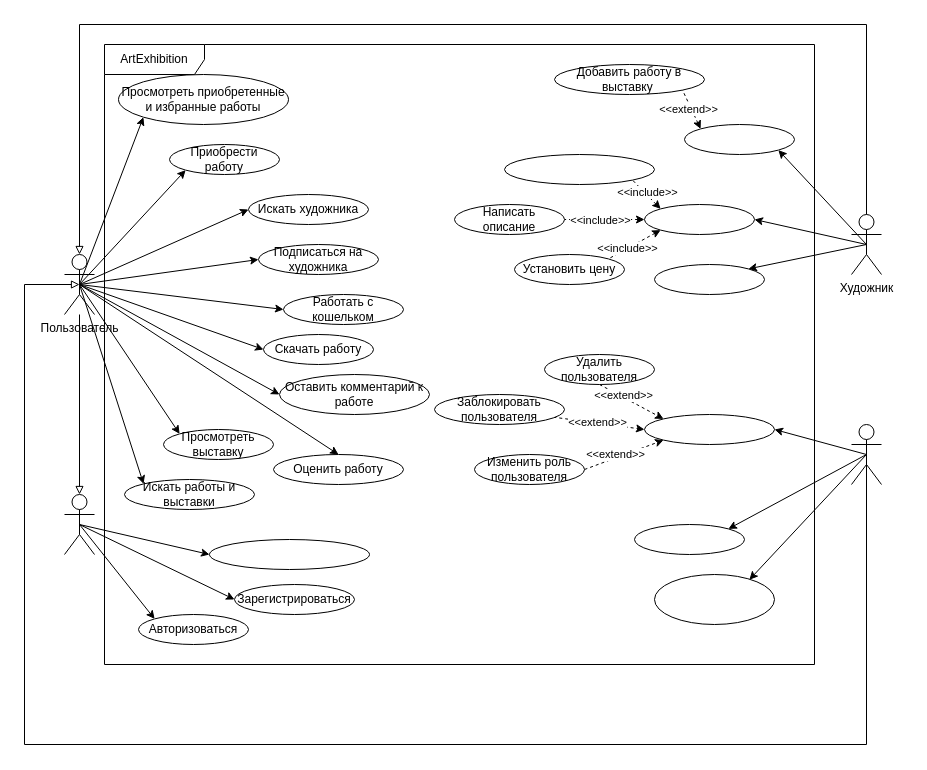
This 927x770 diagram has some shape labels left out. The shapes that lost their labels are listed below. From the top down, each one's centre as x and y in pixels, then its label:
At point (739, 139): "Создать выставку".
At point (579, 169): "Задать название работе".
At point (699, 219): "Загрузить работу".
At point (709, 279): "Просмотреть статистику".
At point (709, 429): "Управлять пользователями".
At point (866, 454): "Администратор".
At point (79, 524): "Гость".
At point (689, 539): "Модерировать контент".
At point (289, 554): "Просмотреть каталог выставок".
At point (714, 599): "Просмотреть статистику сайта".
